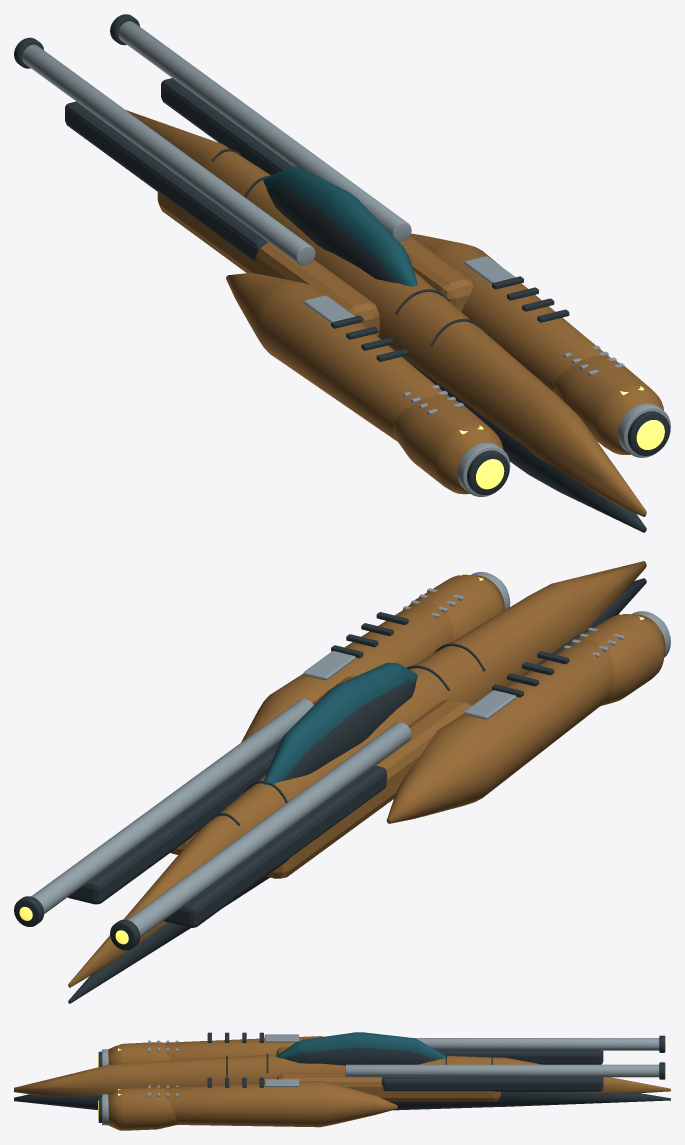
Rendered from boss-4.glb.
3 renders of one model, top to bottom at view 1: azimuth 30°, elevation 25°; view 2: azimuth 150°, elevation 25°; view 3: azimuth 270°, elevation 25°, orthographic. The views are drawn at different scales.
Parts seen in each view (by area): view 1: SM_Hull, SM_Weapon_Left, SM_Wing_Left, SM_Weapon_Right, SM_Wing_Right, SM_Engine_Left, SM_Engine_Right; view 2: SM_Hull, SM_Weapon_Left, SM_Wing_Left, SM_Weapon_Right, SM_Wing_Right, SM_Engine_Left, SM_Engine_Right; view 3: SM_Hull, SM_Weapon_Right, SM_Wing_Right, SM_Weapon_Left, SM_Engine_Right, SM_Wing_Left, SM_Engine_Left.
Part boxes in pixels (box(x1,y1,x2,y2)): SM_Hull: box(126, 110, 646, 532); SM_Weapon_Left: box(14, 37, 379, 336); SM_Wing_Left: box(226, 273, 449, 441); SM_Weapon_Right: box(110, 14, 473, 311); SM_Wing_Right: box(410, 233, 610, 391); SM_Engine_Left: box(393, 385, 510, 496); SM_Engine_Right: box(553, 345, 670, 457); SM_Hull: box(68, 561, 646, 1003); SM_Weapon_Left: box(110, 699, 471, 950); SM_Wing_Left: box(386, 640, 614, 823); SM_Weapon_Right: box(14, 675, 356, 926); SM_Wing_Right: box(241, 601, 453, 742); SM_Engine_Left: box(563, 611, 670, 705); SM_Engine_Right: box(403, 572, 510, 641); SM_Hull: box(14, 1032, 670, 1110); SM_Weapon_Right: box(277, 1062, 666, 1101); SM_Wing_Right: box(165, 1077, 397, 1127); SM_Weapon_Left: box(276, 1035, 666, 1064); SM_Engine_Right: box(98, 1085, 178, 1130); SM_Wing_Left: box(165, 1032, 323, 1060); SM_Engine_Left: box(98, 1040, 178, 1067).
Bounding box in the file's own units: 2.68 × 1.48 × 11.4.
